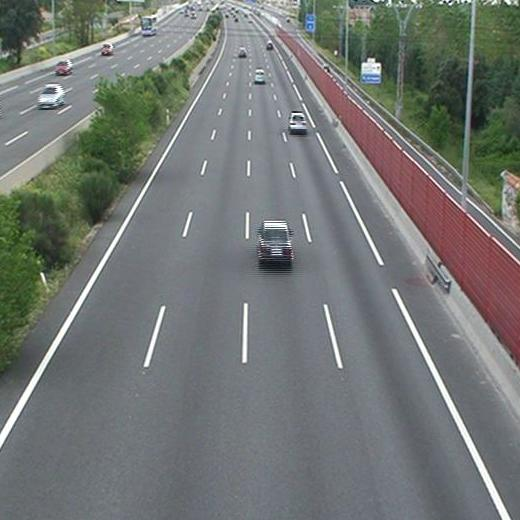car: (258, 221, 292, 261), (290, 113, 308, 132), (254, 69, 266, 82), (238, 47, 247, 57), (265, 41, 273, 48)
